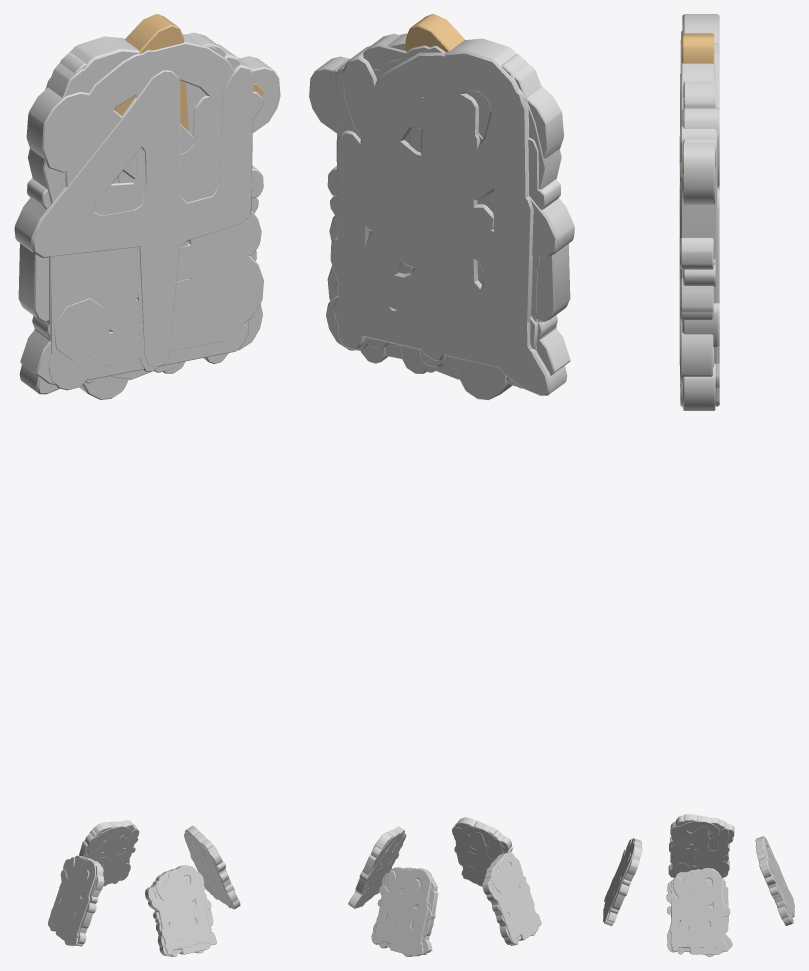
Rendered from Runenalphabet.fbx.
3 renders of one model, left to right at view 1: azimuth 30°, elevation 25°; view 2: azimuth 150°, elevation 25°; view 3: azimuth 270°, elevation 25°, orthographic.
Parts seen in each view (by area): view 1: Y Rune.001, E Ruen.002, G Rune.002, H Rune.002, I Rune.001, X Rune.002, X Rune.001, A Rune, O Rune.001, C Rune.002, R Rune.001, Y Rune.002 (+10 smaller); view 2: A Rune.001, X Rune.001, B Rune.001, Z Rune.002, X Rune.002, Y Rune.001, Q Rune.001, O Rune.001, E Ruen.002, Y Rune.002, R Rune.001, D Rune.001 (+12 smaller); view 3: E Ruen.002, Y Rune.001, A Rune, X Rune.002, D Rune.001, Y Rune.002, B Rune.002, X Rune.001, E Ruen.001, U Rune.001, Z Rune, C Rune.002 (+8 smaller).
Boxes of the visible parts, x1,y1,x2,y2 form: Y Rune.001: (14,60,253,367); E Ruen.002: (26,50,263,387); G Rune.002: (49,34,245,390); H Rune.002: (82,91,263,371); I Rune.001: (20,124,261,384); X Rune.002: (48,821,232,955); X Rune.001: (19,36,248,394); A Rune: (53,837,234,946); O Rune.001: (18,53,224,379); C Rune.002: (114,14,263,131); R Rune.001: (27,63,206,203); Y Rune.002: (65,823,228,933); A Rune.001: (330,92,533,368); X Rune.001: (336,38,567,395); B Rune.001: (342,46,525,347); Z Rune.002: (333,52,537,367); X Rune.002: (348,817,541,954); Y Rune.001: (336,62,574,367); Q Rune.001: (369,45,512,400); O Rune.001: (435,243,570,379); E Ruen.002: (327,86,563,339); Y Rune.002: (355,832,530,942); R Rune.001: (392,62,561,346); D Rune.001: (309,56,349,133); E Ruen.002: (680,31,713,384); Y Rune.001: (679,74,717,365); A Rune: (605,828,791,946); X Rune.002: (604,814,793,951); D Rune.001: (682,141,714,204); Y Rune.002: (608,822,780,939); B Rune.002: (605,820,789,946); X Rune.001: (682,14,719,406); E Ruen.001: (610,821,788,941); U Rune.001: (683,363,715,410); Z Rune: (605,832,792,947); C Rune.002: (682,33,714,174).
Bounding box in the file's own units: 107 × 367 × 71.57.
